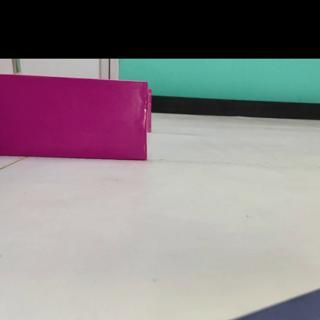xparking: (1, 85, 148, 164)
